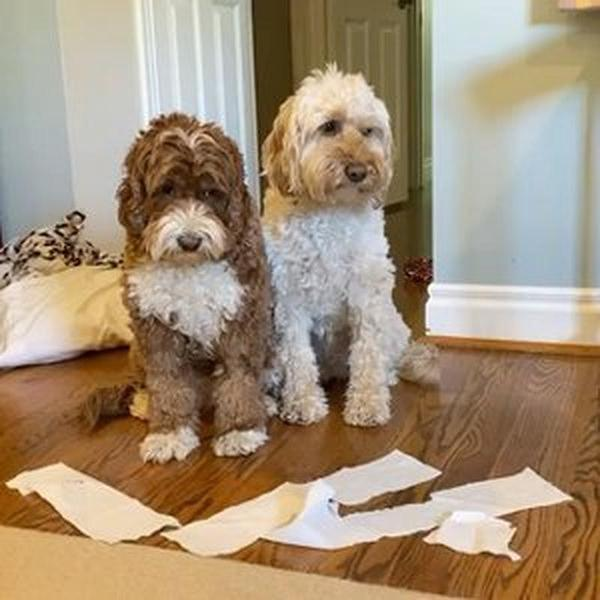allqu: (263, 56, 446, 430), (76, 107, 255, 462)
